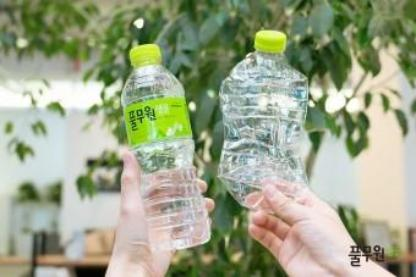Plastic Bottle: (122, 44, 210, 253), (219, 29, 308, 207)
